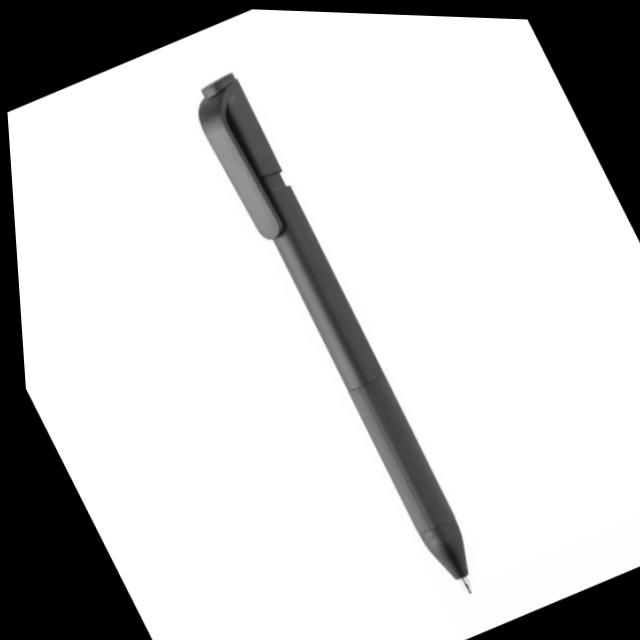pen: (179, 63, 500, 610)
